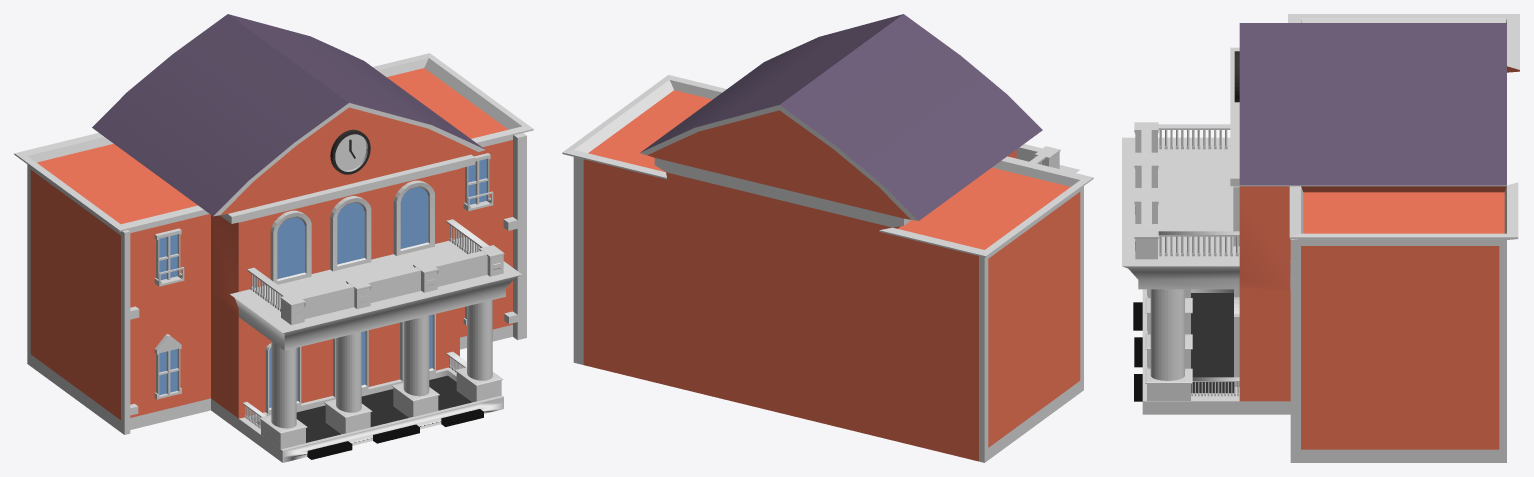
File: TwonHallSmallstairs.fbx
The picture shows the model from 3 angles, left to right: view 1: azimuth 30°, elevation 25°; view 2: azimuth 150°, elevation 25°; view 3: azimuth 270°, elevation 25°; orthographic projection. The views are drawn at different scales.
Parts seen in each view (by area): view 1: Cube, Cube.009, Cube.007, Cube.010, Cube.008, Cube.011, Cube.012, Cube.006, Cube.020, Cube.022, Cube.021, Cube.017 (+7 smaller); view 2: Cube, Cube.020; view 3: Cube, Cube.010, Cube.027, Cube.020, Cube.028, Cube.021, Cube.022, Cube.004, Cube.002, Cube.008, Cube.009.
Part boxes in pixels (box(x1,y1,x2,y2)): Cube: box(14, 14, 533, 462); Cube.009: box(391, 315, 439, 417); Cube.007: box(259, 341, 307, 449); Cube.010: box(455, 300, 503, 402); Cube.008: box(324, 332, 372, 434); Cube.011: box(330, 196, 371, 271); Cube.012: box(393, 180, 434, 255); Cube.006: box(270, 210, 311, 284); Cube.020: box(247, 267, 354, 325); Cube.022: box(413, 251, 487, 292); Cube.021: box(346, 267, 420, 309); Cube.017: box(154, 334, 181, 399); Cube: box(562, 14, 1093, 462); Cube.020: box(1016, 144, 1060, 168); Cube: box(1122, 14, 1519, 462); Cube.010: box(1145, 289, 1192, 400); Cube.027: box(1134, 229, 1239, 259); Cube.020: box(1134, 122, 1230, 157); Cube.028: box(1159, 130, 1230, 149); Cube.021: box(1134, 157, 1158, 193); Cube.022: box(1134, 194, 1158, 229); Cube.004: box(1191, 377, 1239, 396); Cube.002: box(1234, 297, 1239, 386); Cube.008: box(1145, 298, 1192, 334); Cube.009: box(1145, 334, 1192, 368).
Size of the model in its own units: 4643 by 3221 by 3501.
